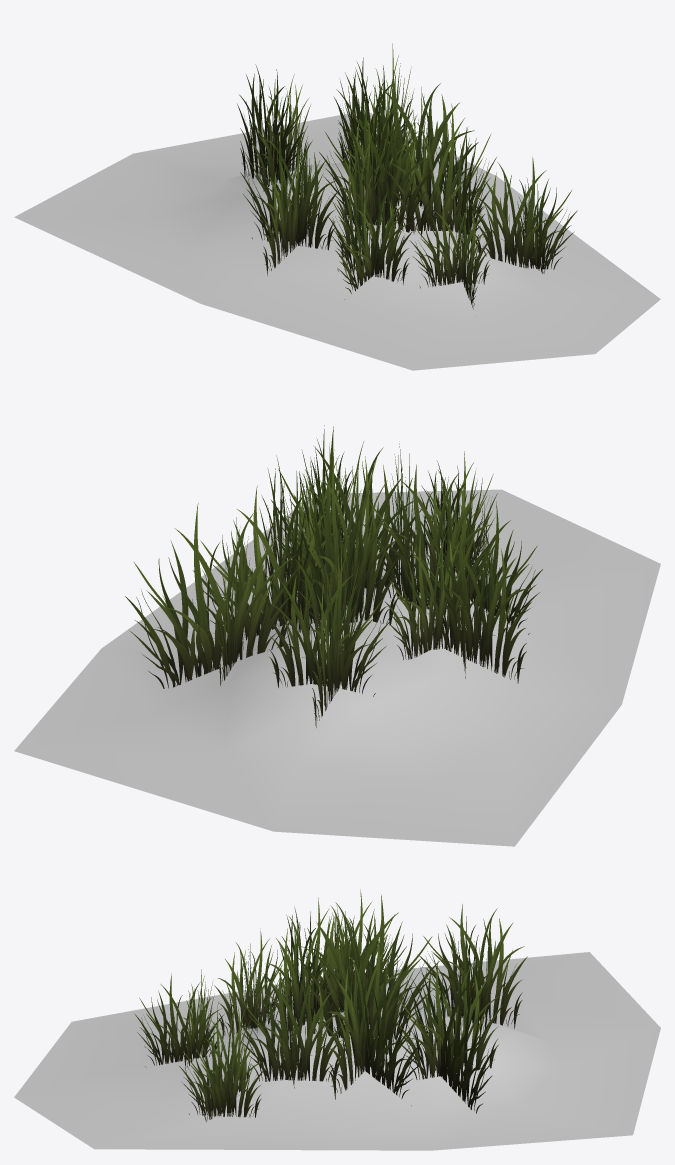
The model's file is Soil_Grass_01.fbx.
The picture shows the model from 3 angles, top to bottom: view 1: azimuth 30°, elevation 25°; view 2: azimuth 150°, elevation 25°; view 3: azimuth 270°, elevation 25°; orthographic projection. The views are drawn at different scales.
Visible parts, largest first — view 1: Soil_Grass_01; view 2: Soil_Grass_01; view 3: Soil_Grass_01.
Boxes of the visible parts, left/top/right/bottom form: Soil_Grass_01: left=14, top=43, right=660, bottom=370; Soil_Grass_01: left=14, top=425, right=660, bottom=846; Soil_Grass_01: left=14, top=889, right=660, bottom=1150.
Size of the model in its own units: 3.93 by 5.4 by 1.79.
